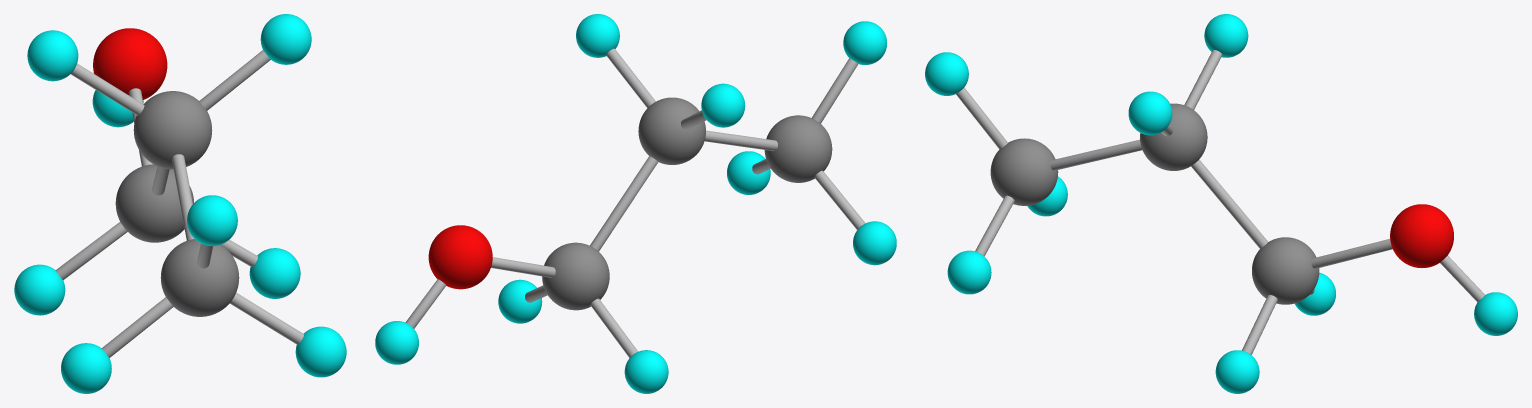
Rendered from 1-propanol.glb.
3 views of the same model, side by side, from view 1: azimuth 30°, elevation 25°; view 2: azimuth 150°, elevation 25°; view 3: azimuth 270°, elevation 25° (orthographic). The views are drawn at different scales.
Parts seen in each view (by area): view 1: CMAtom_9, CMAtom_0, CMAtom_1, CMAtom_2, CMAtom_11, CMAtom_4, CMAtom_7, CMAtom_3, CMAtom_10, CMAtom_5, CMAtom_6, CMBond_2_Segment_0 (+9 smaller); view 2: CMAtom_1, CMAtom_0, CMAtom_9, CMAtom_2, CMAtom_11, CMAtom_3, CMAtom_7, CMAtom_8, CMAtom_4, CMAtom_10, CMAtom_6, CMAtom_5 (+8 smaller); view 3: CMAtom_0, CMAtom_1, CMAtom_2, CMAtom_9, CMAtom_10, CMAtom_5, CMAtom_6, CMAtom_4, CMAtom_8, CMAtom_11, CMBond_9_Segment_0, CMBond_8_Segment_0 (+8 smaller).
Boxes of the visible parts, x1,y1,x2,y2 form: CMAtom_9: [133, 91, 212, 169]; CMAtom_0: [160, 239, 239, 316]; CMAtom_1: [115, 164, 193, 242]; CMAtom_2: [93, 28, 167, 99]; CMAtom_11: [27, 30, 78, 81]; CMAtom_4: [187, 195, 237, 245]; CMAtom_7: [14, 264, 65, 315]; CMAtom_3: [61, 343, 111, 393]; CMAtom_10: [260, 14, 311, 64]; CMAtom_5: [295, 326, 346, 377]; CMAtom_6: [249, 248, 300, 298]; CMBond_2_Segment_0: [101, 297, 173, 357]; CMAtom_1: [542, 242, 609, 310]; CMAtom_0: [764, 115, 832, 182]; CMAtom_9: [638, 97, 705, 164]; CMAtom_2: [428, 225, 492, 289]; CMAtom_11: [701, 83, 745, 127]; CMAtom_3: [853, 221, 896, 265]; CMAtom_7: [624, 350, 668, 393]; CMAtom_8: [375, 321, 418, 364]; CMAtom_4: [843, 21, 886, 64]; CMAtom_10: [576, 14, 619, 57]; CMAtom_6: [498, 279, 542, 323]; CMAtom_5: [727, 151, 770, 194]; CMAtom_0: [990, 138, 1058, 205]; CMAtom_1: [1252, 237, 1319, 304]; CMAtom_2: [1390, 204, 1453, 267]; CMAtom_9: [1140, 103, 1207, 170]; CMAtom_10: [1128, 91, 1172, 135]; CMAtom_5: [947, 250, 991, 294]; CMAtom_6: [1215, 350, 1259, 393]; CMAtom_4: [925, 52, 968, 95]; CMAtom_8: [1474, 292, 1517, 335]; CMAtom_11: [1204, 14, 1248, 57]; CMBond_9_Segment_0: [1191, 159, 1267, 248]; CMBond_8_Segment_0: [1050, 139, 1142, 170].
Size of the model in its own units: 3.12 by 2.86 by 5.41.
